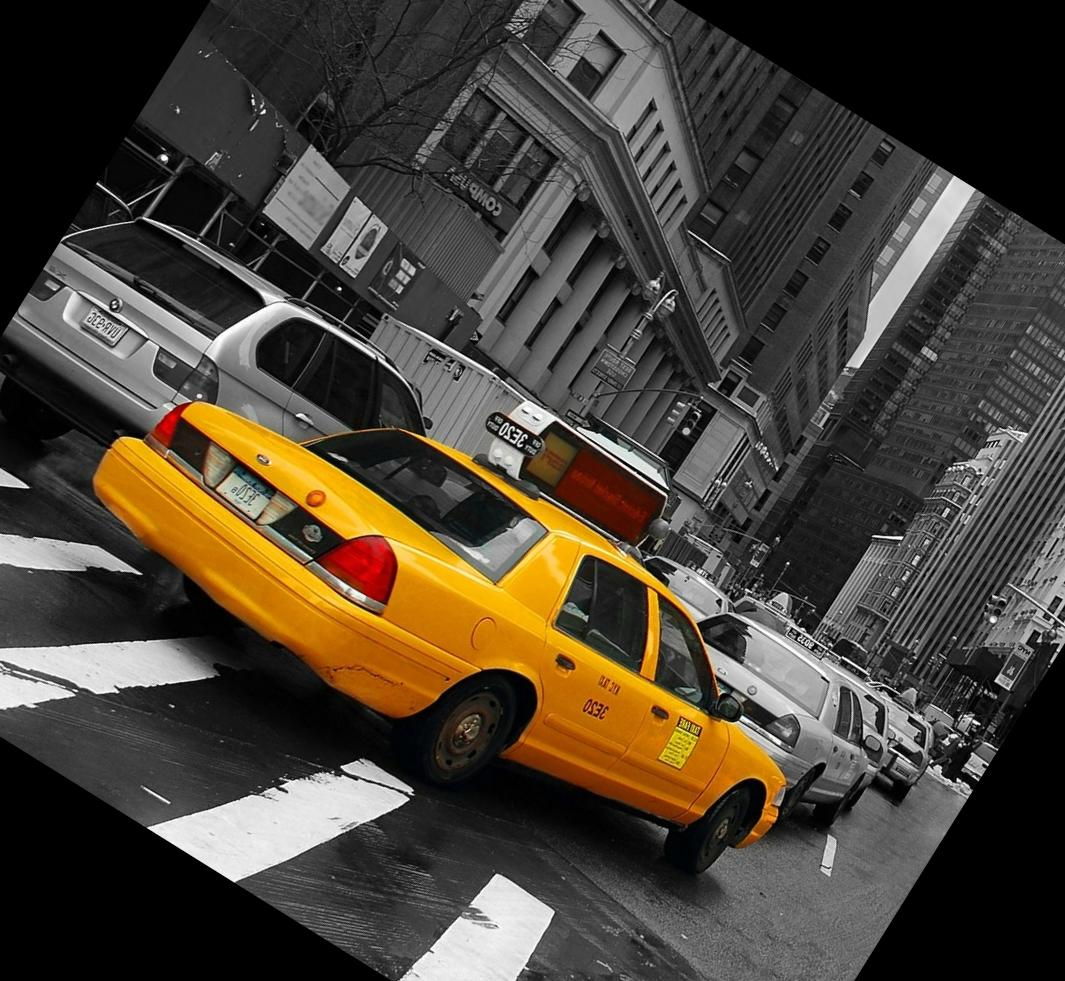taxi: (84, 382, 789, 876)
